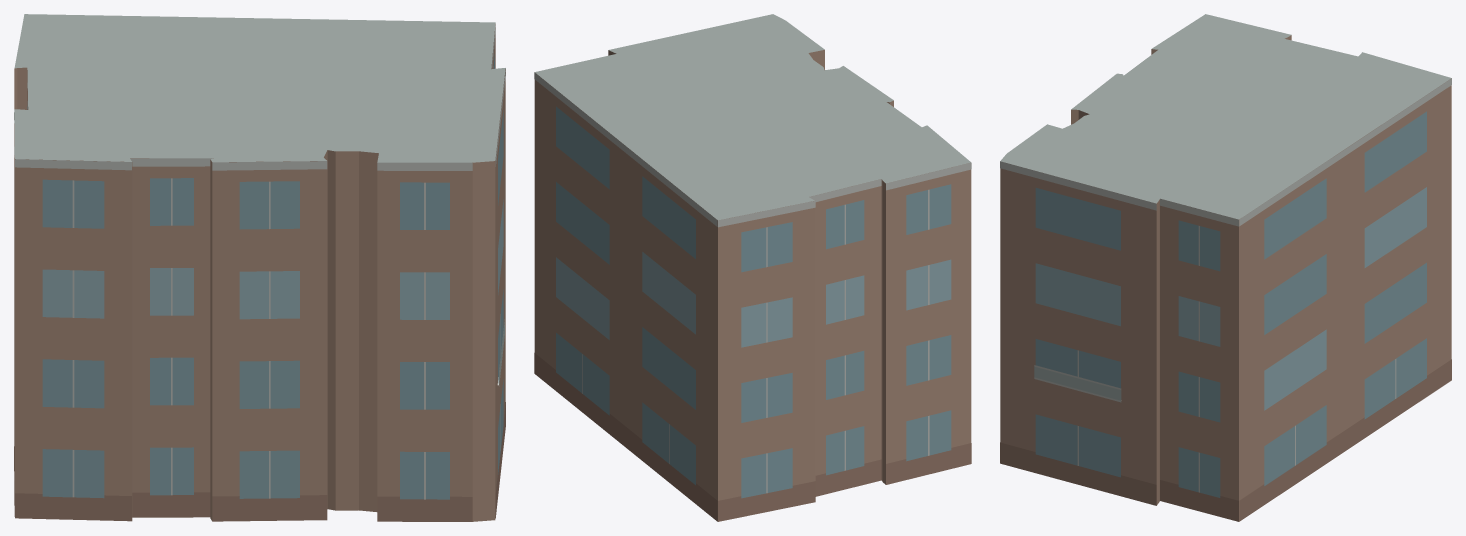
The model's file is survey-upis-32890962.glb.
3 renders of one model, left to right at view 1: azimuth 30°, elevation 25°; view 2: azimuth 150°, elevation 25°; view 3: azimuth 270°, elevation 25°, orthographic. The views are drawn at different scales.
Visible parts, largest first — view 1: survey-upis-32890962.tmp; view 2: survey-upis-32890962.tmp; view 3: survey-upis-32890962.tmp.
Part boxes in pixels (x1,y1,x2,y2): survey-upis-32890962.tmp: (14, 14, 505, 521); survey-upis-32890962.tmp: (534, 14, 971, 521); survey-upis-32890962.tmp: (1000, 14, 1451, 521).
Size of the model in its own units: 15.33 by 10.5 by 14.23.
